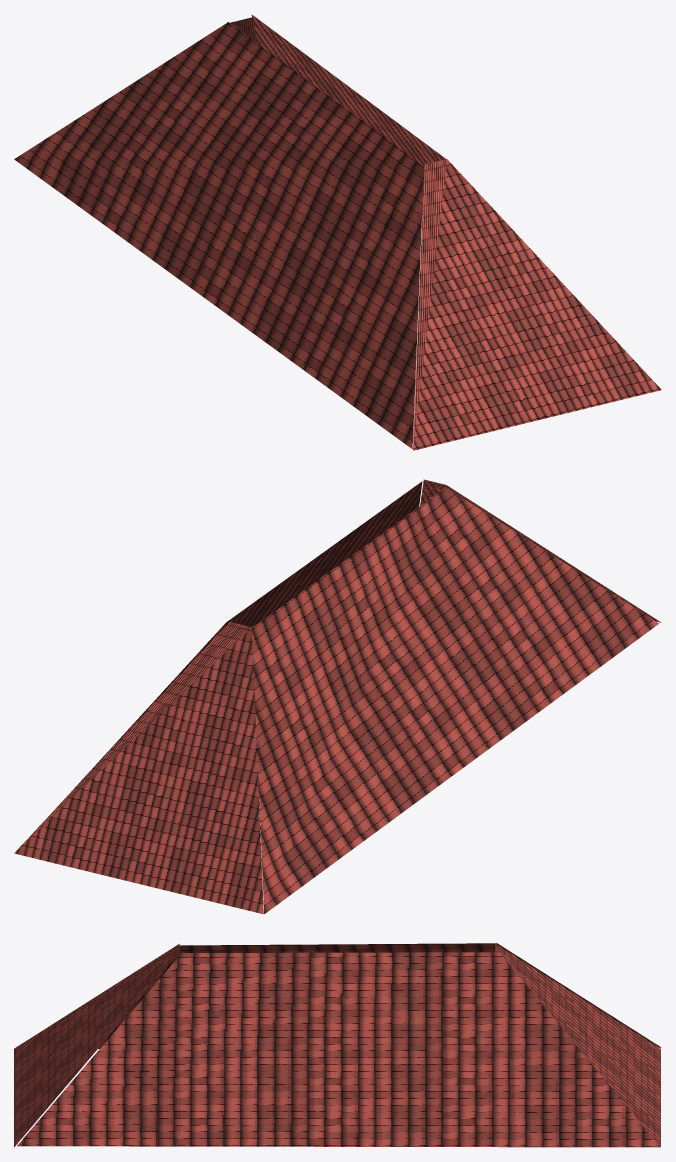
Rendered from roof.glb.
The picture shows the model from 3 angles, top to bottom: view 1: azimuth 30°, elevation 25°; view 2: azimuth 150°, elevation 25°; view 3: azimuth 270°, elevation 25°; orthographic projection. The views are drawn at different scales.
Visible parts, largest first — view 1: Plane.002, Plane.001, Plane.003; view 2: Plane.002, Plane, Plane.003, Plane.001; view 3: Plane.003, Plane.001, Plane, Plane.002.
Part boxes in pixels (left/top/right/bottom): Plane.002: left=14, top=22, right=423, bottom=448; Plane.001: left=413, top=159, right=661, bottom=450; Plane.003: left=251, top=14, right=445, bottom=214; Plane.002: left=251, top=487, right=658, bottom=913; Plane: left=14, top=621, right=263, bottom=914; Plane.003: left=38, top=481, right=422, bottom=827; Plane.001: left=420, top=479, right=661, bottom=622; Plane.003: left=17, top=952, right=659, bottom=1147; Plane.001: left=14, top=944, right=179, bottom=1147; Plane: left=495, top=944, right=660, bottom=1147; Plane.002: left=98, top=943, right=661, bottom=1048.
Size of the model in its own units: 5.55 by 3.92 by 15.28.
Materials: 4 (4 with a texture image).
